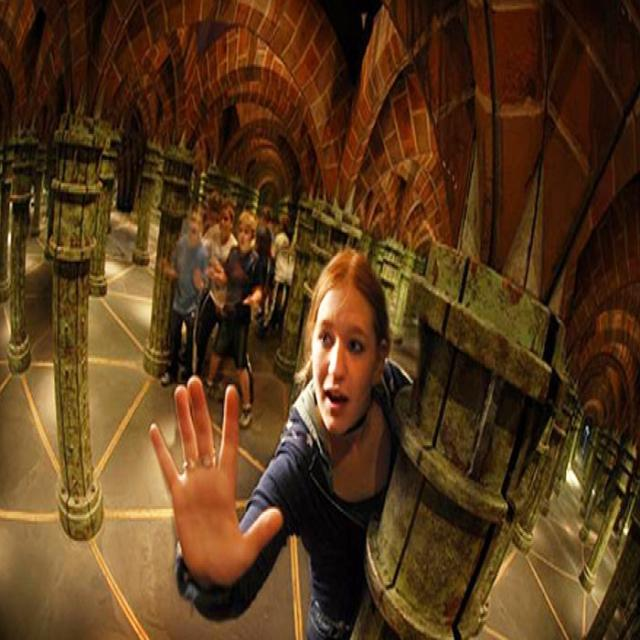body: (144, 239, 417, 640), (201, 204, 264, 431), (158, 212, 210, 388), (193, 194, 239, 388), (265, 216, 294, 338), (252, 207, 274, 323), (262, 201, 278, 316)
